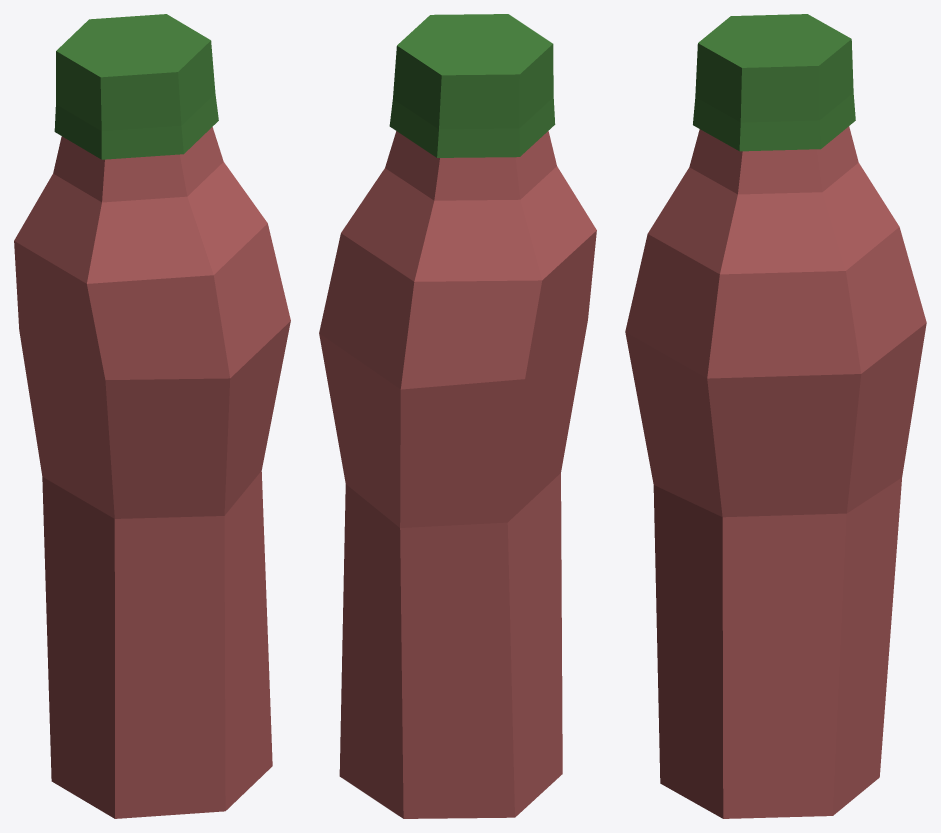
The model's file is Yogaroom_Bottle2.fbx.
3 views of the same model, side by side, from view 1: azimuth 30°, elevation 25°; view 2: azimuth 150°, elevation 25°; view 3: azimuth 270°, elevation 25° (orthographic).
Visible parts, largest first — view 1: Yogaroom_Bottle2; view 2: Yogaroom_Bottle2; view 3: Yogaroom_Bottle2.
Part boxes in pixels (left/top/right/bottom): Yogaroom_Bottle2: left=14, top=14, right=290, bottom=818; Yogaroom_Bottle2: left=319, top=14, right=596, bottom=818; Yogaroom_Bottle2: left=625, top=14, right=926, bottom=818.
Size of the model in its own units: 14.26 by 46.52 by 17.34.
